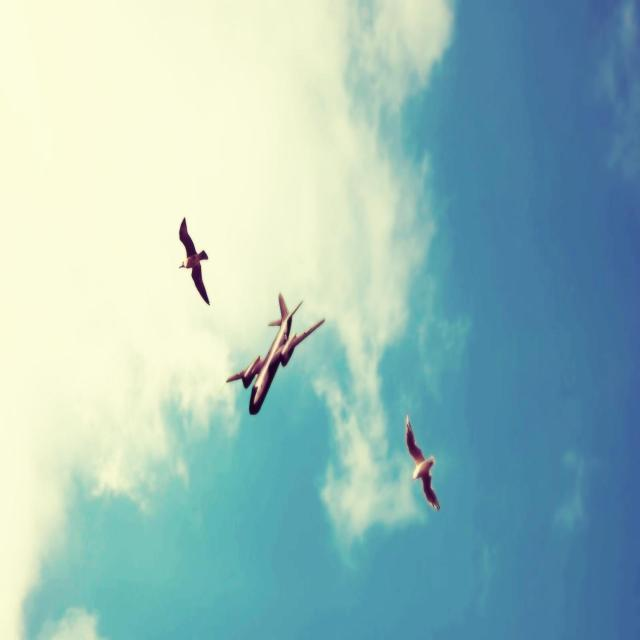airplane: (225, 291, 325, 415)
